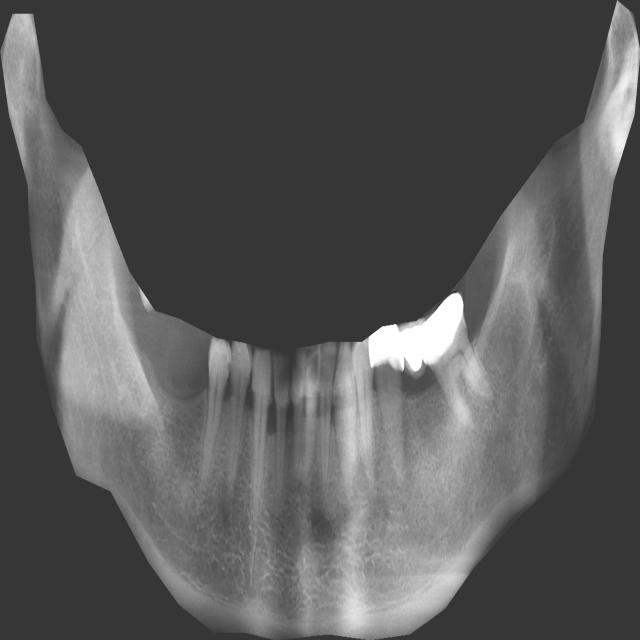mandibula: (0, 0, 640, 640)
